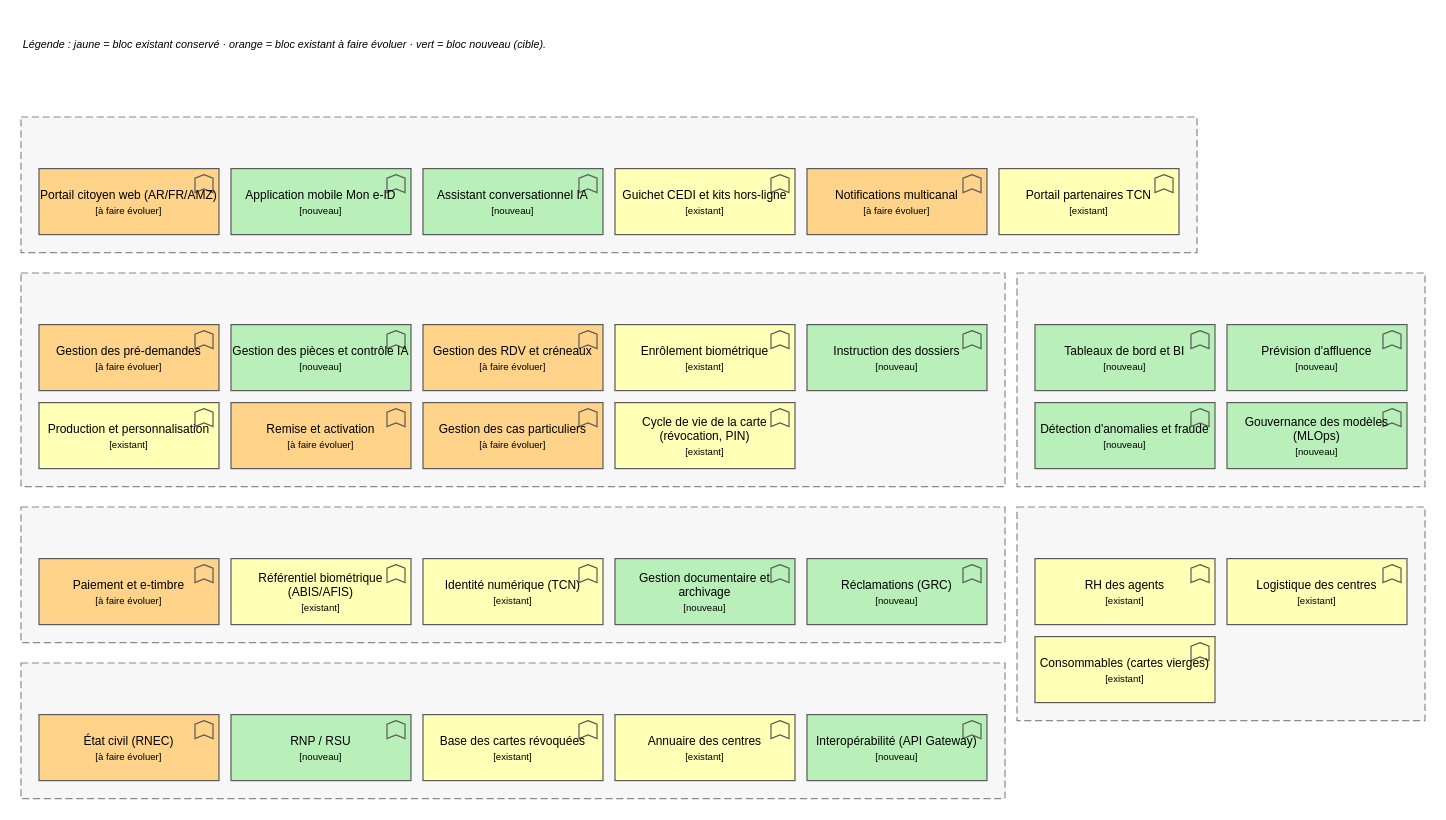
This 1446x820 diagram has some shape labels left out. Here are the shapes that lost their labels. From the top down, the box of each, then its label:
(20, 116, 1197, 253): Zone Échange (canaux)
(20, 272, 1005, 487): Zone Opérationnelle (cœur métier CNIE)
(1016, 272, 1425, 487): Zone Pilotage et IA
(20, 506, 1005, 643): Zone Support
(1016, 506, 1425, 721): Zone Ressources
(20, 662, 1005, 799): Zone Référentiels et échanges
